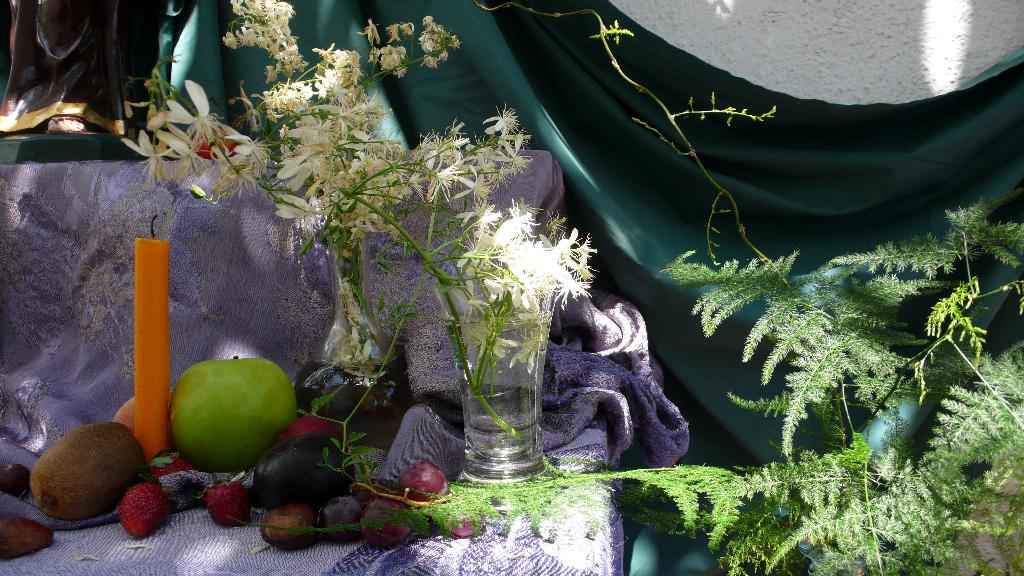Apple: (157, 350, 286, 472)
